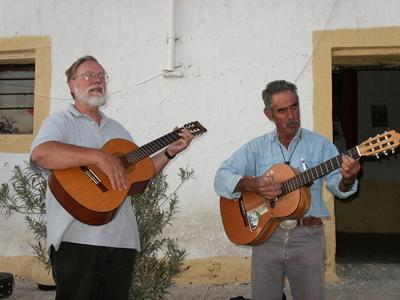person: (30, 56, 194, 300)
